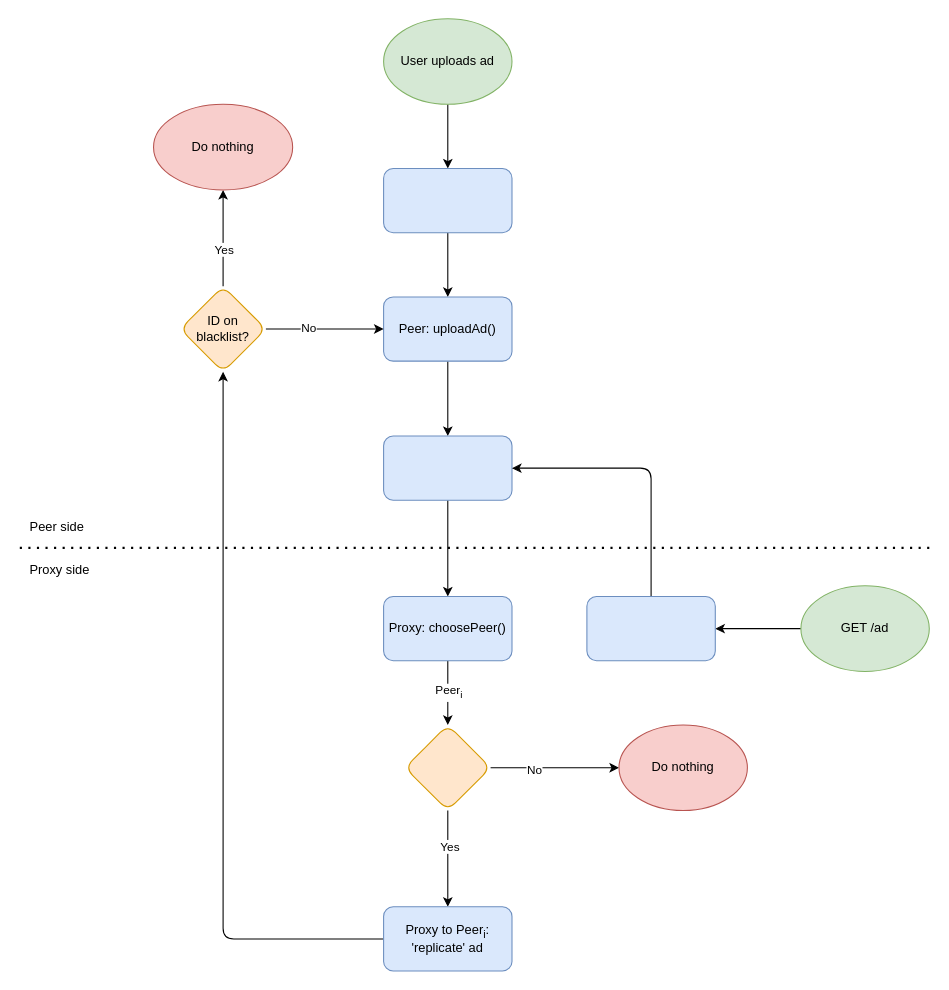
This 949x990 diagram has some shape labels left out. Here are the shapes that lost their labels. From the top down, the centre of each, then its label:
pixel 447 200: Add ad ID to local whitelist
pixel 447 467: Peer to Proxy: 'give-ad'
pixel 650 628: Proxy to all Peers: 'get-ad'
pixel 447 767: 'want-ad'?
